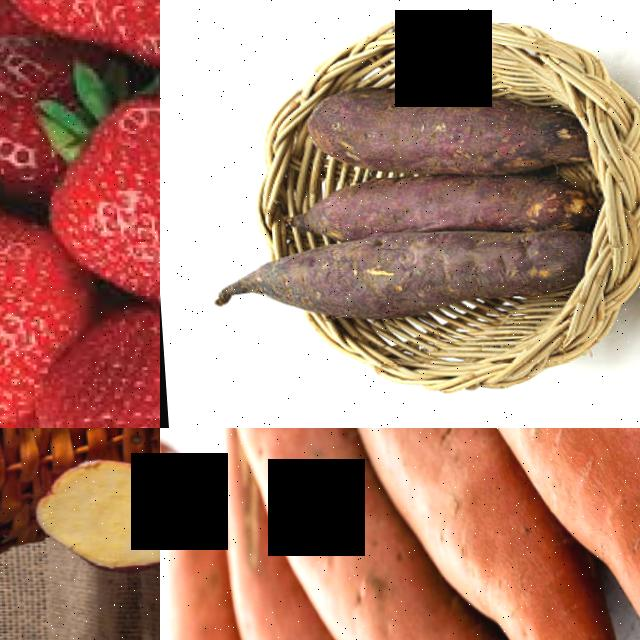strawberry: (65, 84, 160, 322), (29, 356, 160, 428), (0, 0, 160, 37)
sweet potato: (210, 233, 567, 325), (195, 428, 394, 587), (296, 81, 580, 178), (537, 452, 640, 640), (284, 172, 585, 236), (276, 428, 454, 527), (25, 456, 160, 576)
